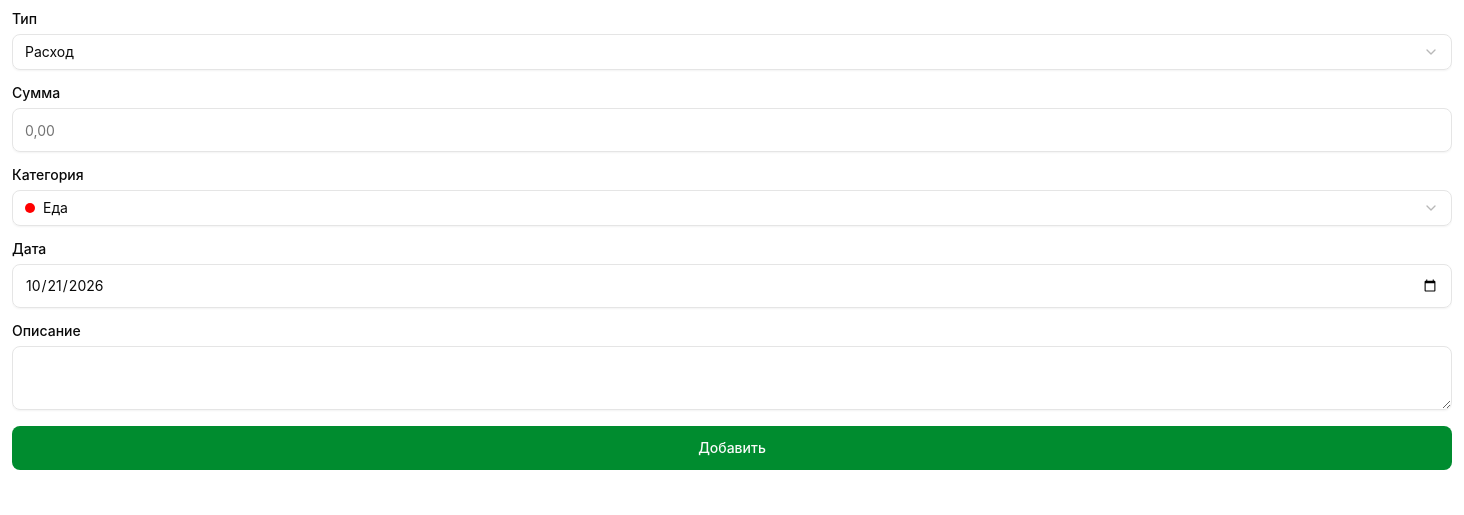
Test: TransactionForm › нулевая сумма показывает сообщение из moneyInputSchema shared
The image size is (1464, 515).
Type "0" into the field labelled "Сумма".
click(732, 130); type("0")  # box [12,108,1452,152]
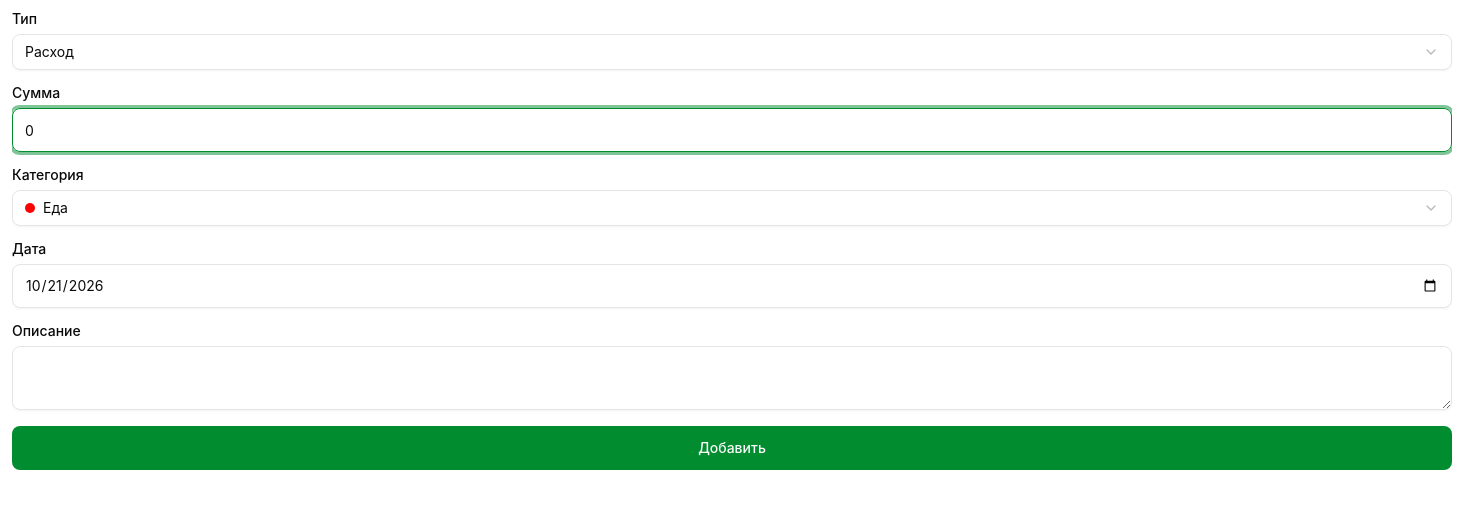
Click the button "Добавить".
click(732, 448)  # box [12,426,1452,470]
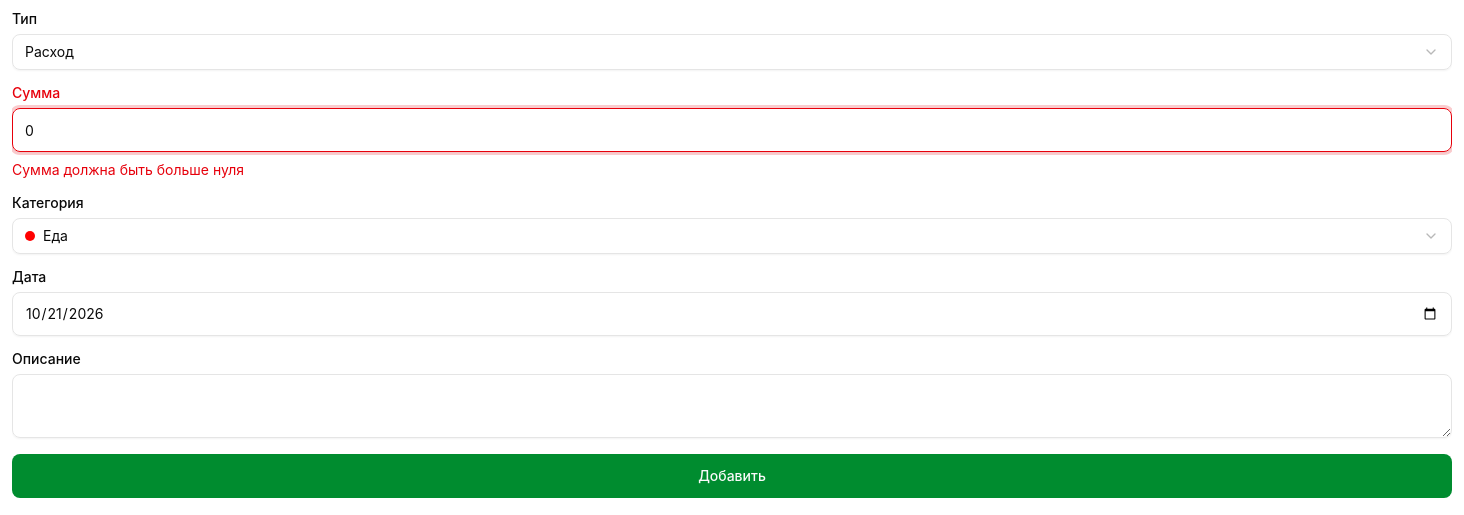
Result: the text "Сумма должна быть больше нуля" is shown at [12,161,244,178]
